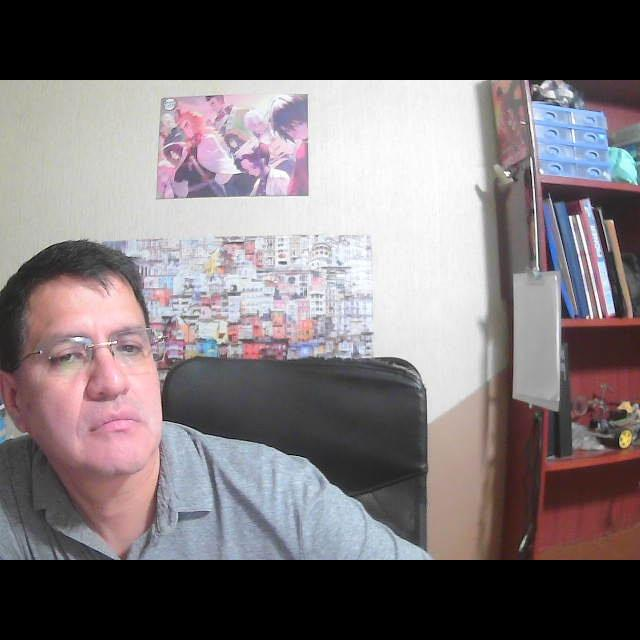cesar: (1, 236, 183, 498)
